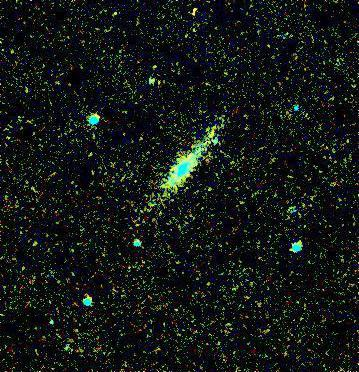star: (181, 0, 211, 26)
